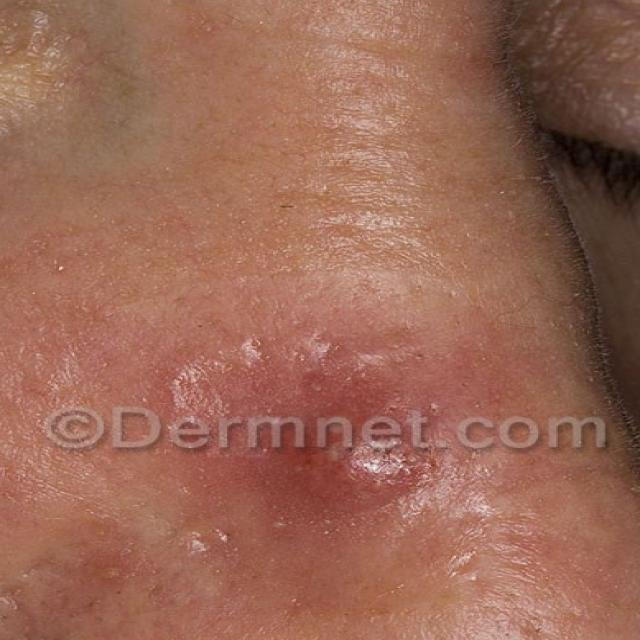Acne: (169, 281, 451, 541)
